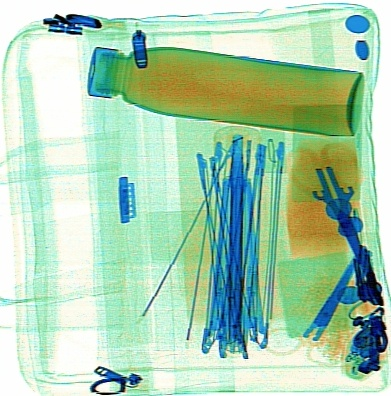scissors: (284, 140, 376, 287), (262, 247, 363, 369)
